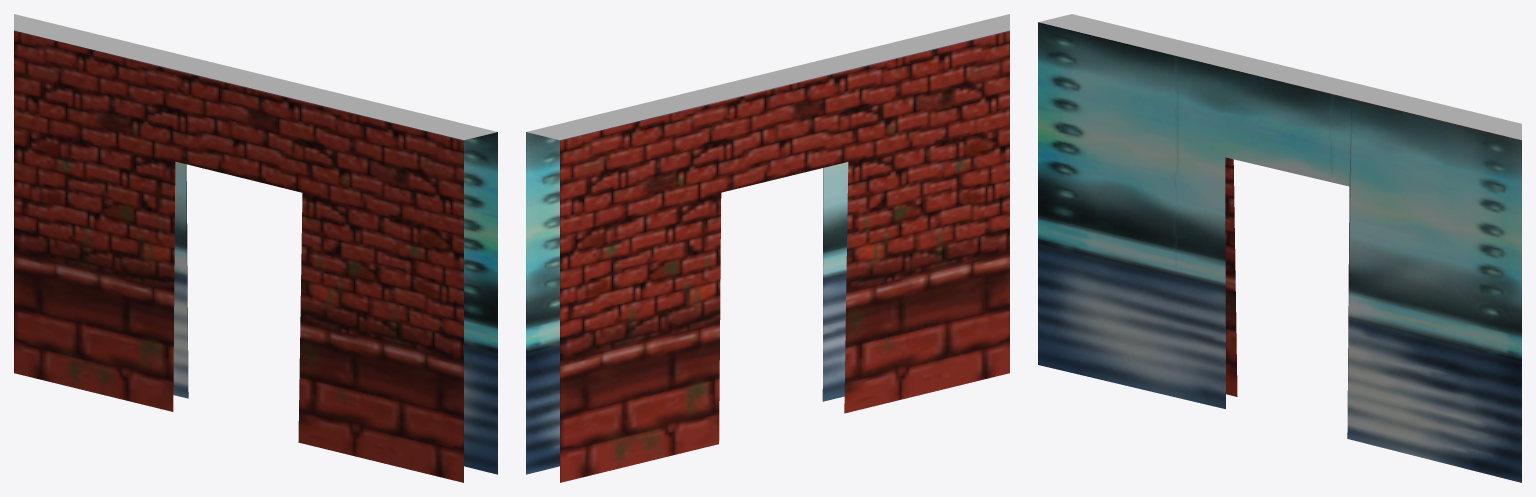
The model's file is Polizei_Wand_K16_2547.glb.
3 views of the same model, side by side, from view 1: azimuth 90°, elevation 25°; view 2: azimuth 150°, elevation 25°; view 3: azimuth 270°, elevation 25° (orthographic).
Parts seen in each view (by area): view 1: pPlaneShape341, pPlaneShape349, polySurfaceShape1104; view 2: pPlaneShape341, pPlaneShape349, polySurfaceShape1104; view 3: pPlaneShape349, polySurfaceShape1104, pPlaneShape341.
Part boxes in pixels (x1,y1,x2,y2): pPlaneShape341: (14,30,463,482); pPlaneShape349: (173,132,497,474); polySurfaceShape1104: (14,14,496,140); pPlaneShape341: (560,30,1009,482); pPlaneShape349: (526,132,848,474); polySurfaceShape1104: (527,14,1009,140); pPlaneShape349: (1038,22,1521,482); polySurfaceShape1104: (1038,14,1521,140); pPlaneShape341: (1225,157,1237,396).
Size of the model in its own units: 0.3076 by 0.3891 by 0.4979.
Materials: 3 (2 with a texture image).
